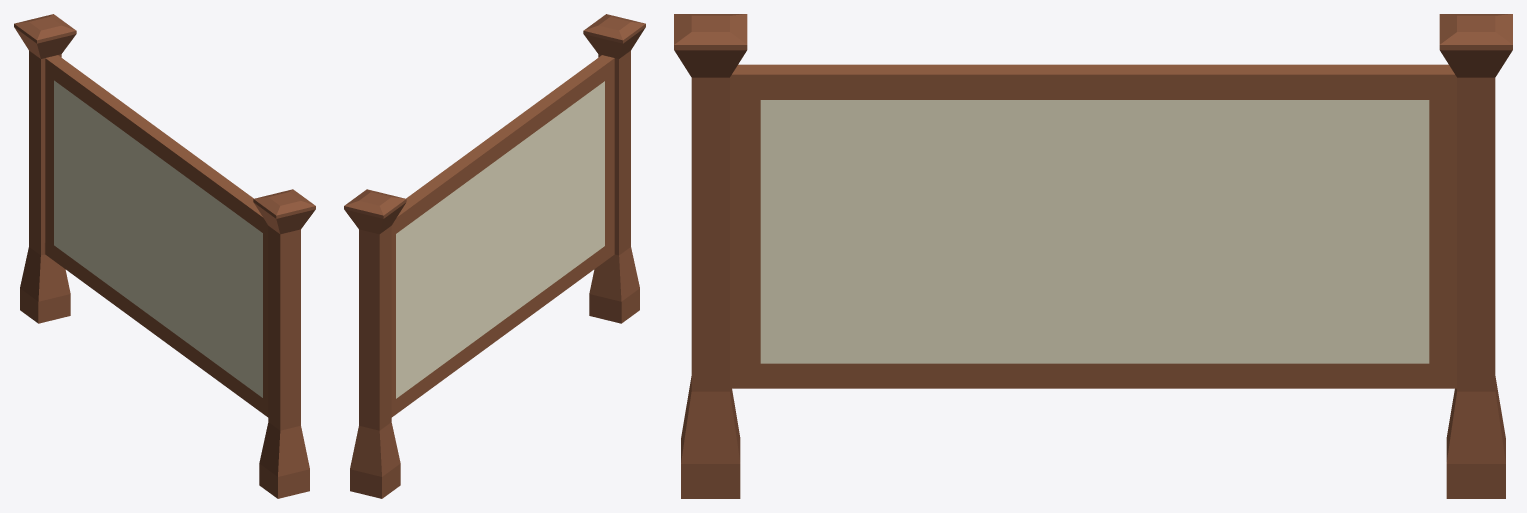
The model's file is bulletinboard_embedded.fbx.
3 renders of one model, left to right at view 1: azimuth 30°, elevation 25°; view 2: azimuth 150°, elevation 25°; view 3: azimuth 270°, elevation 25°, orthographic. The views are drawn at different scales.
Parts seen in each view (by area): view 1: post_and_board, other_post; view 2: post_and_board, other_post; view 3: post_and_board, other_post.
Part boxes in pixels (left/top/right/bottom): post_and_board: left=45, top=55, right=315, bottom=498; other_post: left=14, top=14, right=76, bottom=323; post_and_board: left=391, top=14, right=645, bottom=417; other_post: left=344, top=95, right=615, bottom=498; post_and_board: left=674, top=14, right=1456, bottom=498; other_post: left=1439, top=14, right=1512, bottom=498.
Bounding box in the file's own units: 2.87 × 20 × 32.87.
Materials: 1 (1 with a texture image).
